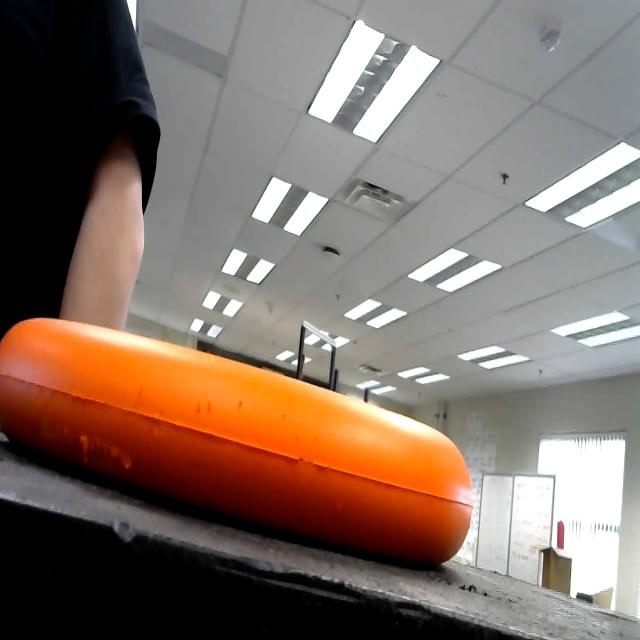note: (0, 306, 483, 582)
